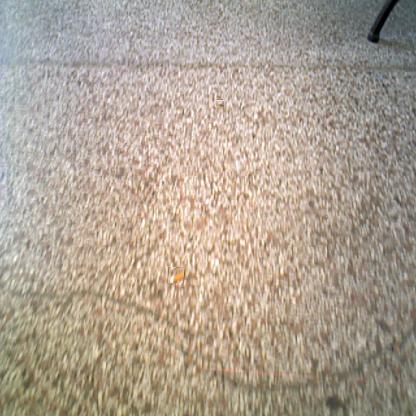dirty: (168, 267, 184, 283), (216, 99, 223, 108)
